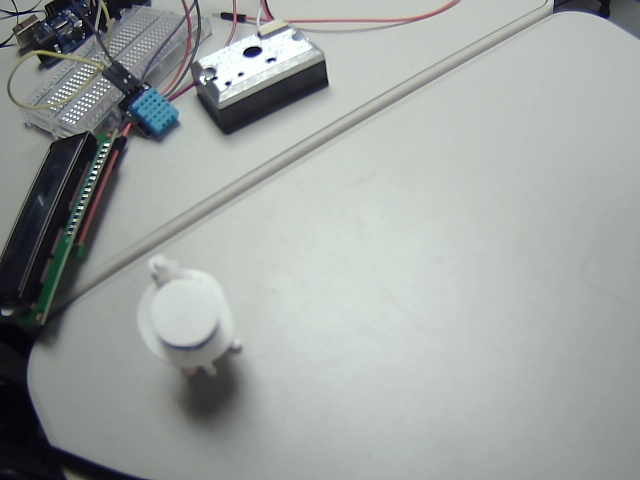lucci: (129, 247, 268, 399)
